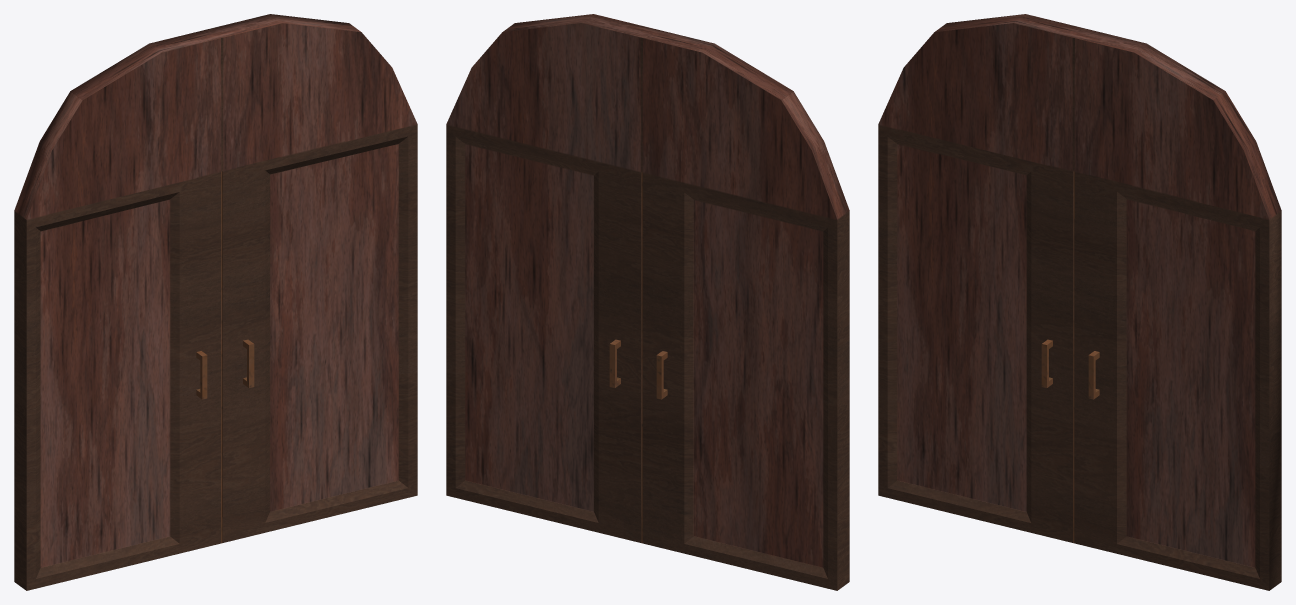
The model's file is BigDoor.fbx.
3 views of the same model, side by side, from view 1: azimuth 30°, elevation 25°; view 2: azimuth 150°, elevation 25°; view 3: azimuth 330°, elevation 25° (orthographic).
Visible parts, largest first — view 1: Double Door_Baked; view 2: Double Door_Baked; view 3: Double Door_Baked.
Boxes of the visible parts, bbox=[...] form: Double Door_Baked: bbox=[14, 14, 417, 590]; Double Door_Baked: bbox=[446, 14, 849, 590]; Double Door_Baked: bbox=[878, 14, 1281, 590].
Bounding box in the file's own units: 221 × 272 × 23.93.
1 material, 1 textured.
